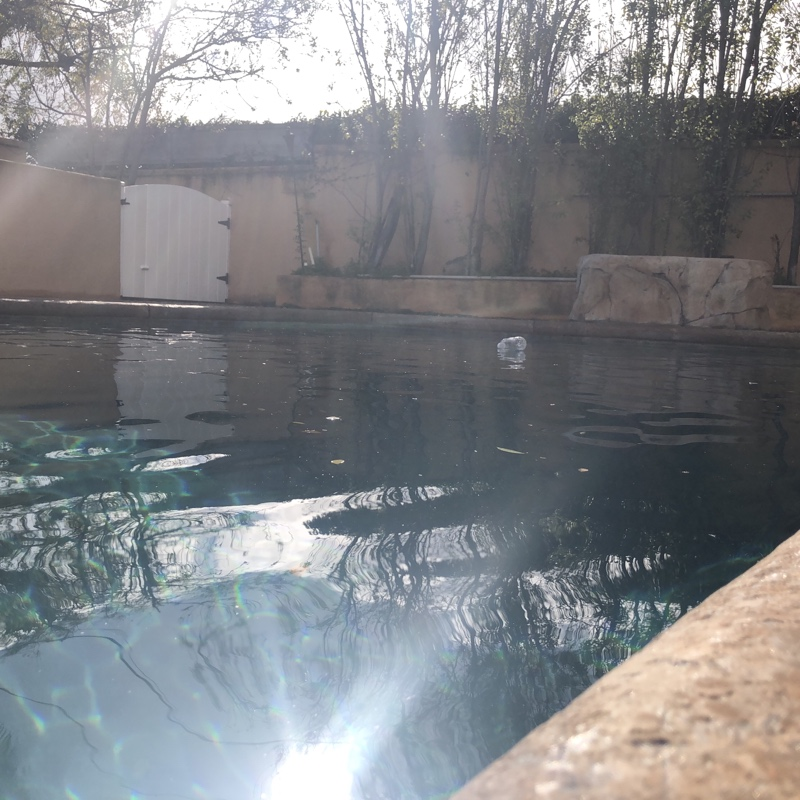Plastic Bottle: (495, 333, 527, 353)
